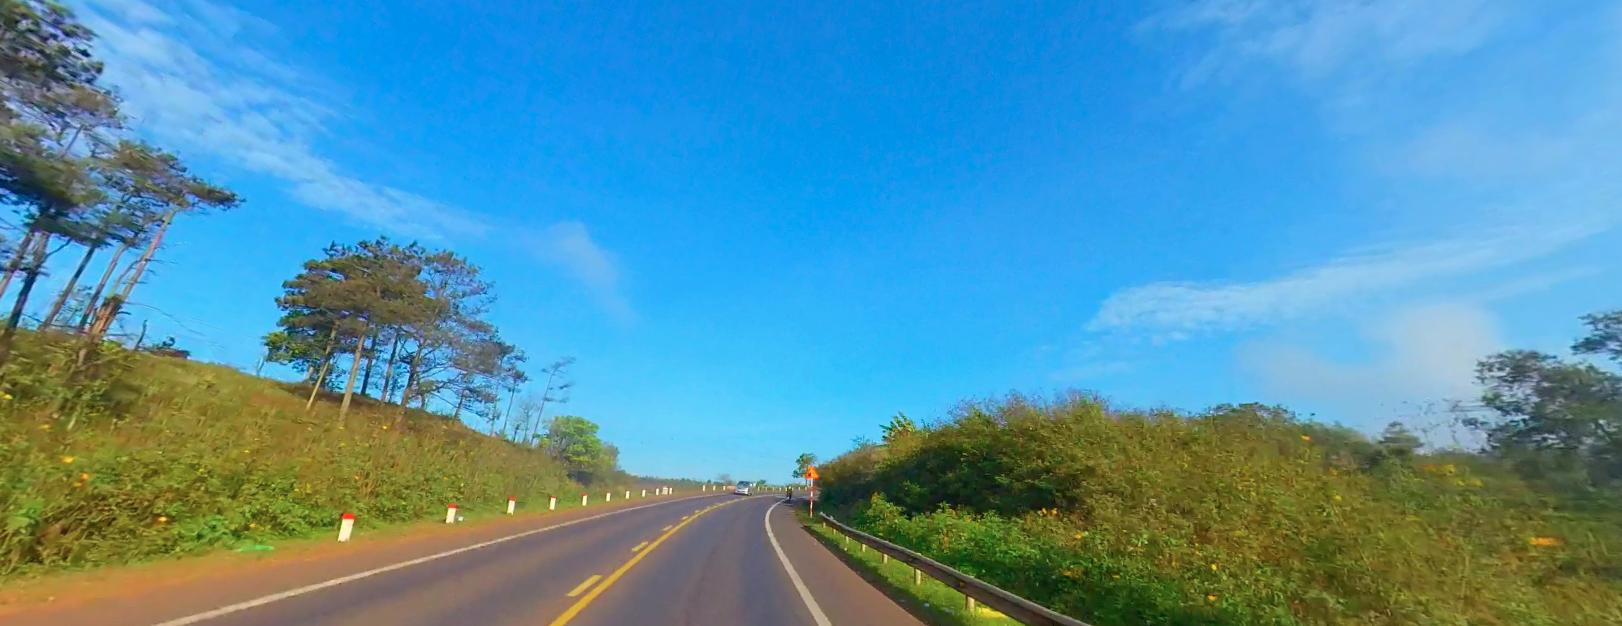Nguy hiem: (804, 463, 821, 477), (804, 464, 819, 478)
